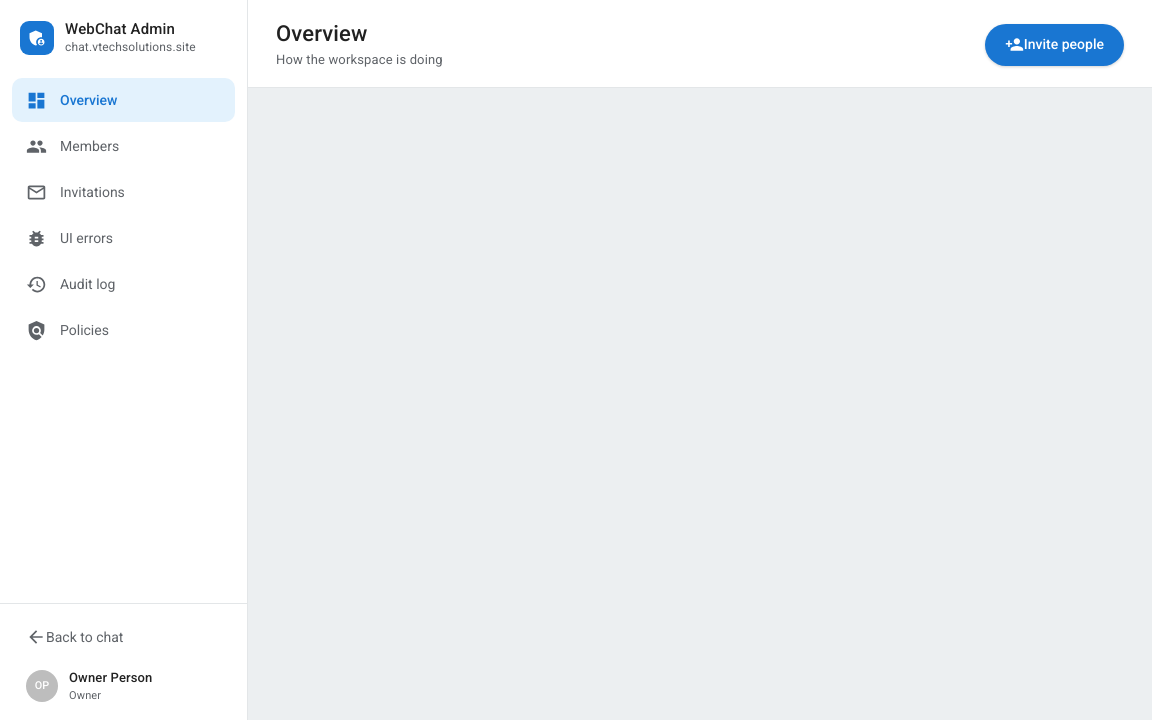
Test case: the UI errors section › says so plainly when there is nothing to triage
This screenshot has width=1152, height=720.
Click the button "UI errors".
click(124, 238)  # box [12,216,235,260]
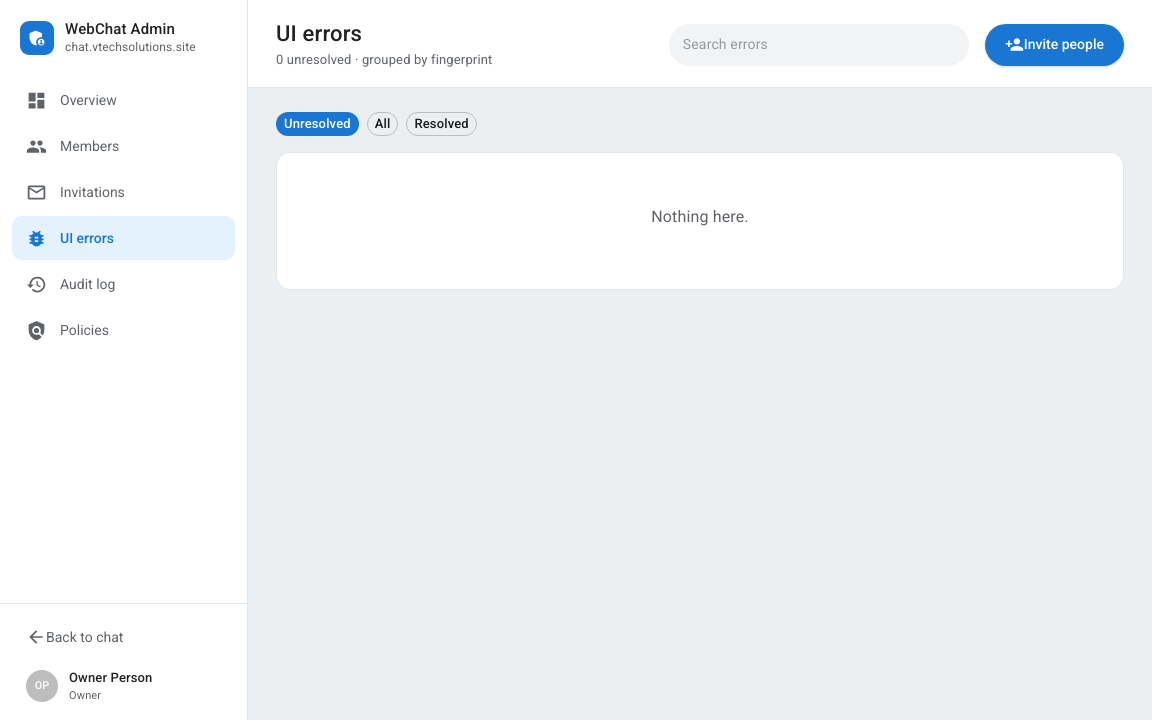
Expected: the text "Nothing here." is shown, [651,207,749,226]
